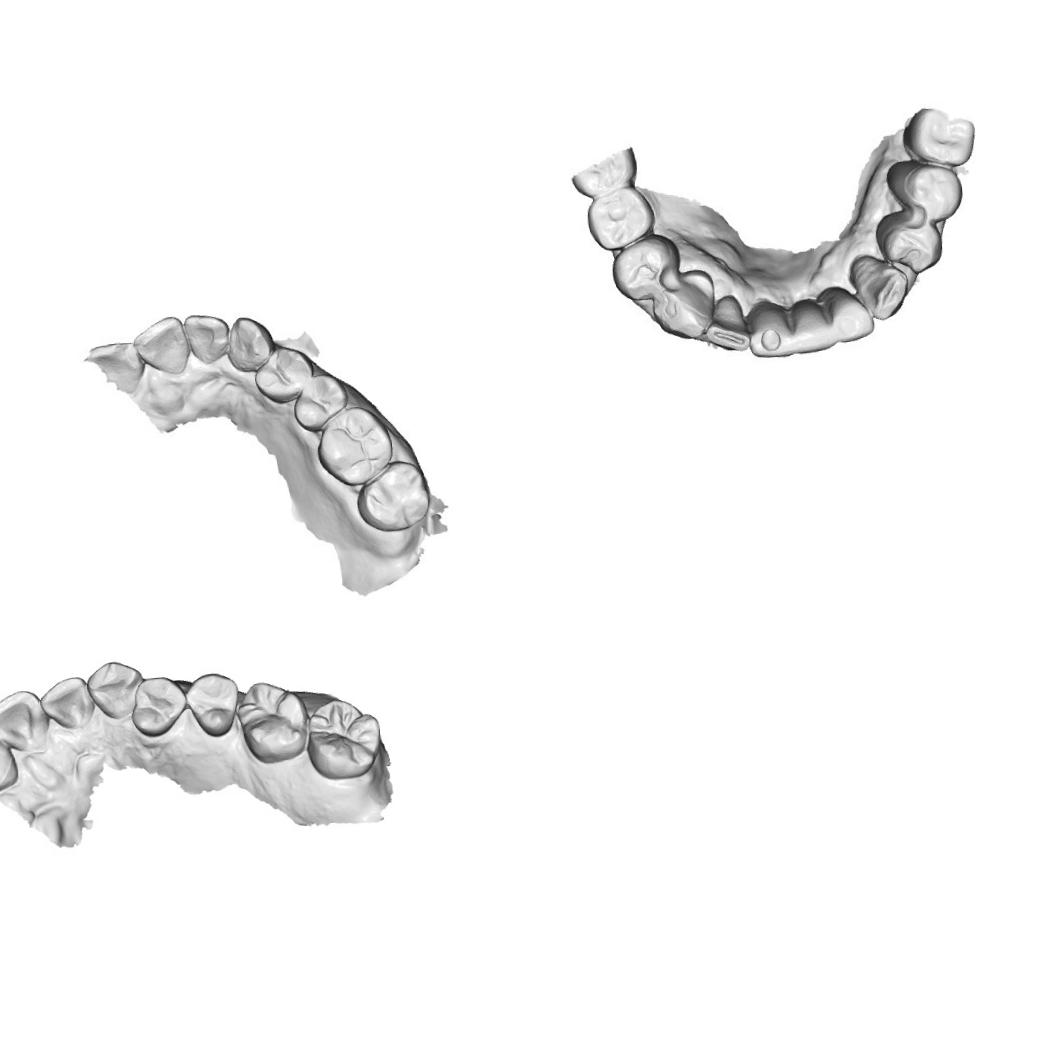canine: (649, 267, 718, 342), (847, 252, 911, 322), (82, 657, 146, 722), (220, 313, 272, 373)
incisor: (130, 313, 195, 376), (819, 281, 876, 344), (0, 687, 52, 754), (38, 674, 96, 730), (744, 298, 795, 360), (702, 292, 751, 354), (179, 309, 232, 365), (790, 294, 836, 355), (0, 722, 19, 793)
molar: (309, 402, 396, 489), (302, 695, 385, 783), (233, 676, 310, 766), (354, 458, 432, 534), (898, 102, 977, 170)
premolar: (884, 156, 965, 226), (607, 230, 683, 302), (584, 183, 657, 252), (872, 208, 944, 276), (184, 669, 243, 741), (126, 674, 190, 740), (250, 344, 315, 406), (288, 367, 348, 432)
